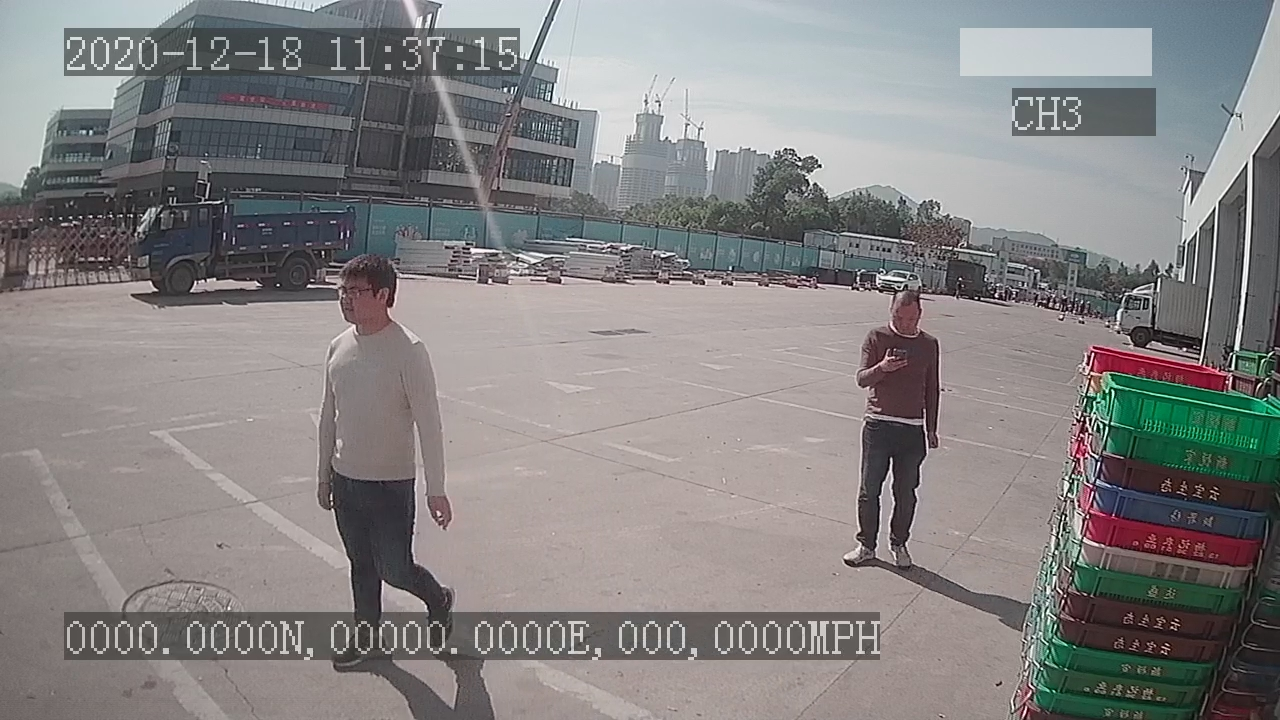person: (837, 289, 952, 578)
